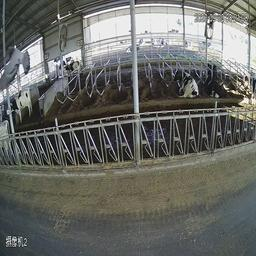cow: (171, 64, 200, 104), (7, 88, 35, 124), (203, 76, 224, 102), (205, 57, 220, 74)
